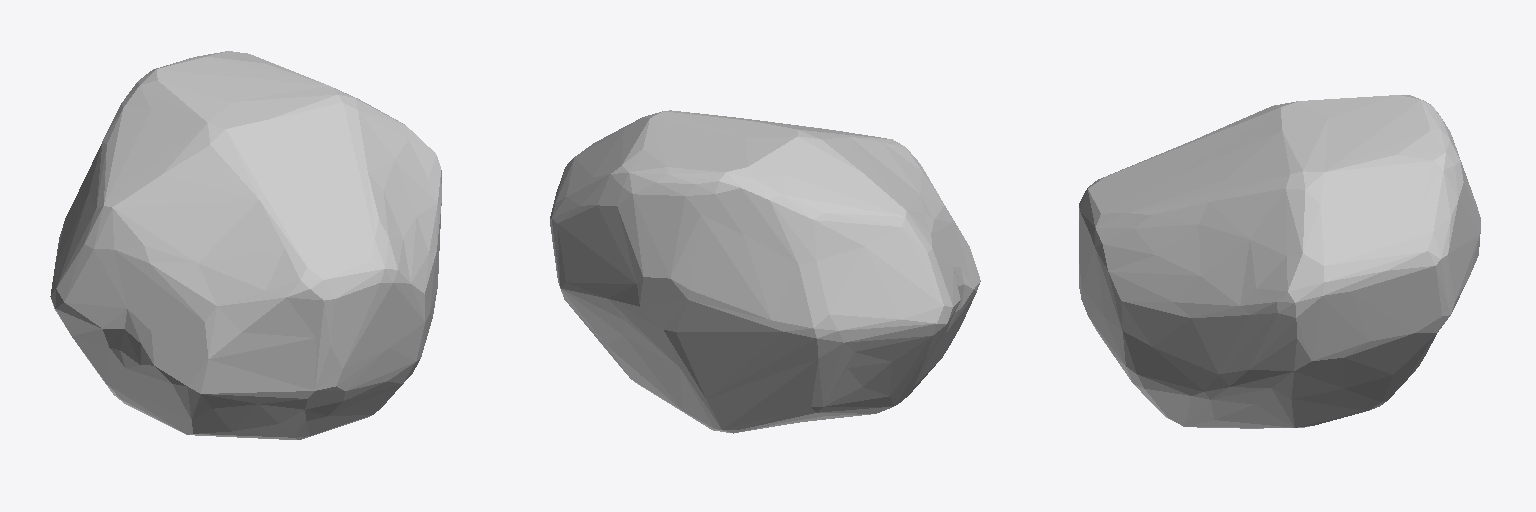
Rendered from stone_1_low.obj.
3 views of the same model, side by side, from view 1: azimuth 30°, elevation 25°; view 2: azimuth 150°, elevation 25°; view 3: azimuth 270°, elevation 25° (orthographic).
Parts seen in each view (by area): view 1: stone_1_low:Group50644; view 2: stone_1_low:Group50644; view 3: stone_1_low:Group50644.
Boxes of the visible parts, x1=… form: stone_1_low:Group50644: x1=50, y1=51, x2=441, y2=439; stone_1_low:Group50644: x1=550, y1=110, x2=980, y2=433; stone_1_low:Group50644: x1=1079, y1=95, x2=1480, y2=428.
Bounding box in the file's own units: 37.35 × 26.76 × 34.33.